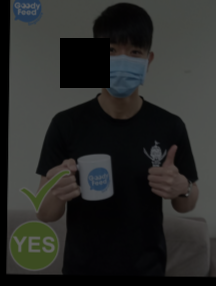with_mask: (95, 40, 147, 100)
